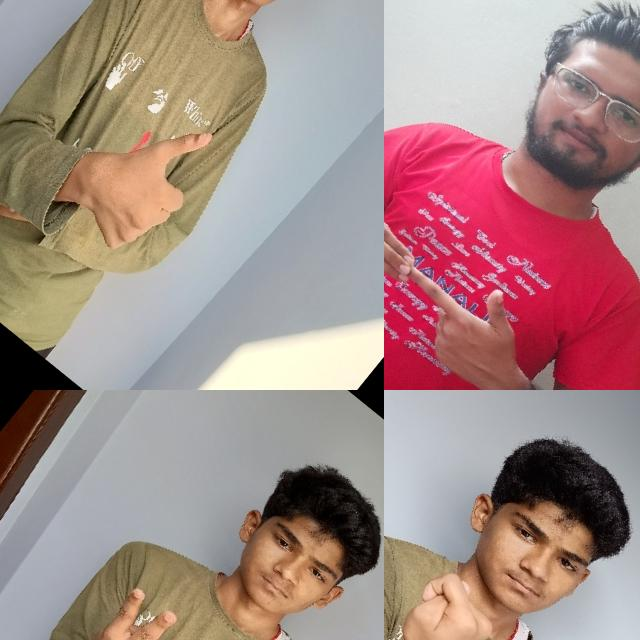Dulya: (384, 553, 524, 640)
Five Fathers: (384, 163, 563, 390)
Reversed Victory: (41, 568, 203, 640)
Thumbs Up: (52, 80, 245, 279)
